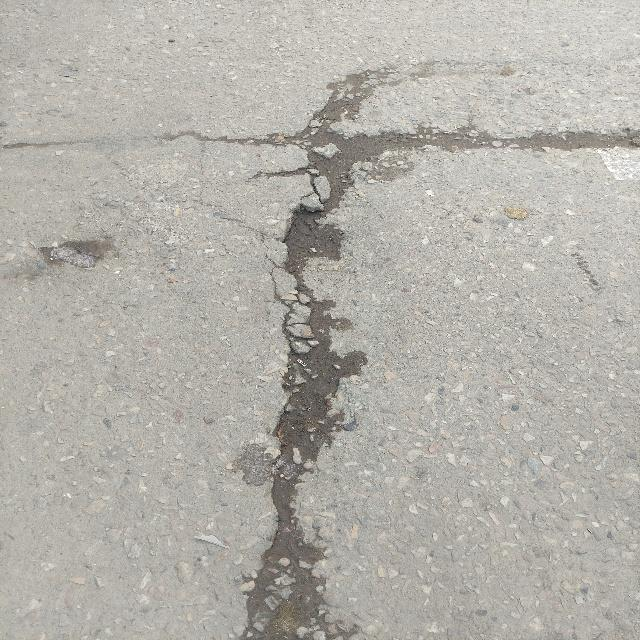Surface Erosion: (151, 61, 456, 628)
